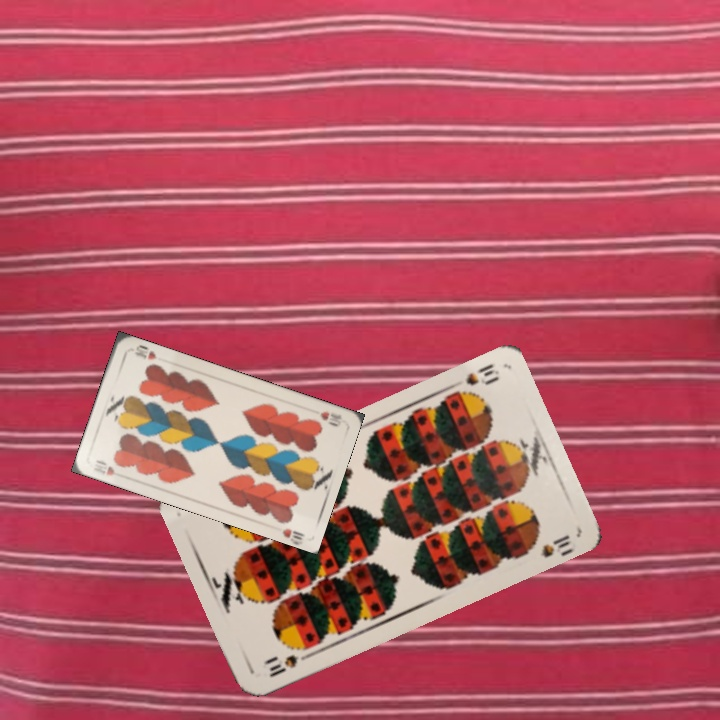H10: (89, 456, 128, 481), (316, 407, 346, 429)
S10: (446, 359, 502, 391), (265, 650, 301, 680)
